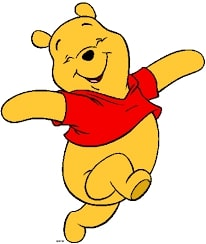Winnie: (29, 1, 165, 125)
